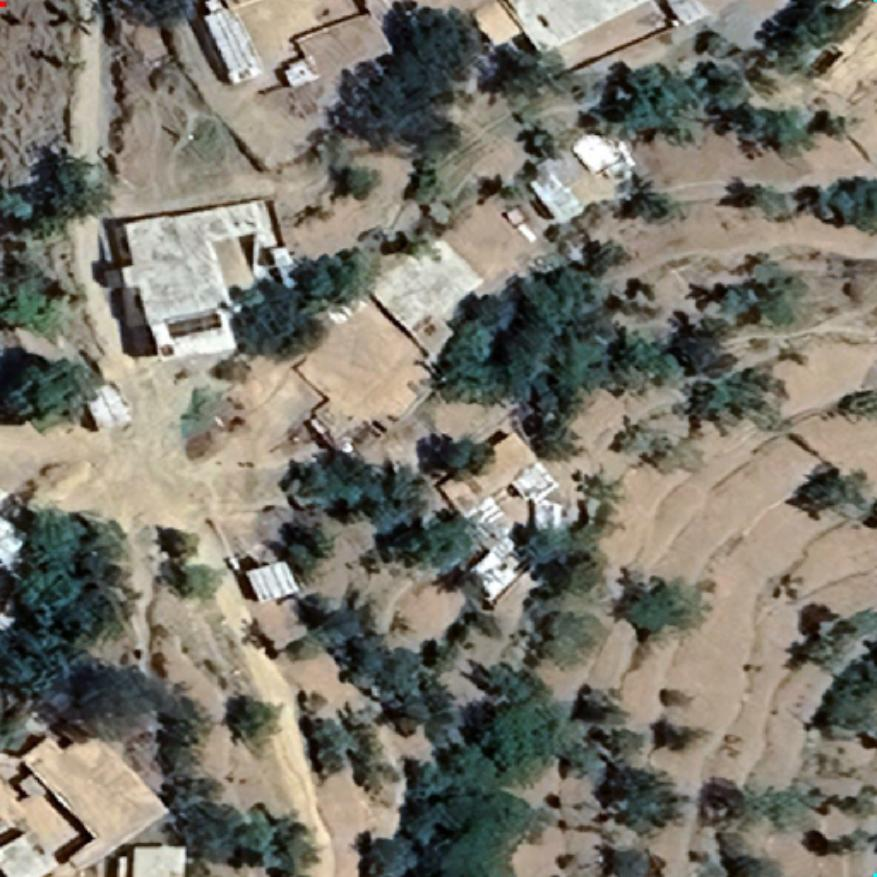Solarpanel: (164, 308, 224, 340)
